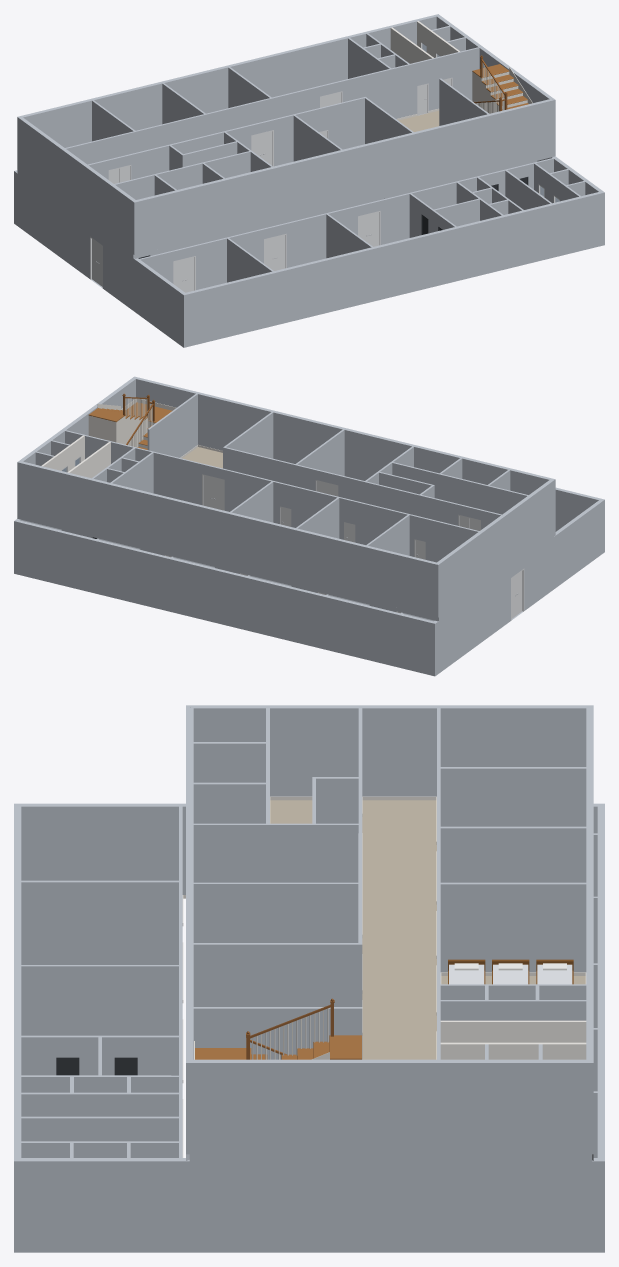
Rendered from lantai_2.glb.
The picture shows the model from 3 angles, top to bottom: view 1: azimuth 30°, elevation 25°; view 2: azimuth 150°, elevation 25°; view 3: azimuth 270°, elevation 25°; orthographic projection. The views are drawn at different scales.
Parts seen in each view (by area): view 1: Wall xq2fngxmuy22, Wall mi8497wfhxy8, Wall gwpm1q0ehxy8, Wall knbzdnw4hxy8, Wall ufxzxmlxhxy8, Wall x9eyfvsquy22, Wall 7t4voxlauy22, Wall xe7dyhqyuy22, Wall huqn24dqhxy8, Wall hefkgtgeuy22, Wall ruvndz41uy22, Wall h5lkwbacuy22 (+57 smaller); view 2: Wall l2ejw205uy22, Wall j9g91u2jhxy8, Wall 7r3o1ju6hxy8, Wall wdorv58hhxy8, Wall izgs9frrhxy8, Wall 0knpzuy1uy22, Wall utk30w2quy22, Wall h5lkwbacuy22, Wall rtvaq9dxuy22, Wall l8w7hmyihxy8, Wall rf0hpbf0uy22, Wall ruvndz41uy22 (+46 smaller); view 3: Slab slab:7e238bec-75fa-4a3a-8225-9a180a80a6fc:rliuj5h, Wall 6ec244t1uy22, Wall khi8fr2jhxy8, Wall 25huyelrhxy8 (×2), Wall gtrzfgqkuy22, Wall czpv1u3phxy8, Wall zfm17tfuhxy8, Wall tehvbcshhxy8, Wall ay6rlyl1uy22, Wall gl34gyf2ka74, Wall khgbamsiuy22, Wall ar5po6zouy22 (+27 smaller).
Part boxes in pixels (<box>): Wall xq2fngxmuy22: <box>134,180,220,254</box>; Wall mi8497wfhxy8: <box>521,192,604,264</box>; Wall gwpm1q0ehxy8: <box>293,247,373,320</box>; Wall knbzdnw4hxy8: <box>372,229,448,301</box>; Wall ufxzxmlxhxy8: <box>219,266,295,338</box>; Wall x9eyfvsquy22: <box>488,99,555,168</box>; Wall 7t4voxlauy22: <box>219,164,284,233</box>; Wall xe7dyhqyuy22: <box>283,149,344,218</box>; Wall huqn24dqhxy8: <box>446,215,503,283</box>; Wall hefkgtgeuy22: <box>434,114,489,181</box>; Wall ruvndz41uy22: <box>83,164,135,254</box>; Wall h5lkwbacuy22: <box>270,69,390,119</box>; Wall l2ejw205uy22: <box>352,542,438,617</box>; Wall j9g91u2jhxy8: <box>14,520,97,593</box>; Wall 7r3o1ju6hxy8: <box>245,576,325,649</box>; Wall wdorv58hhxy8: <box>170,558,246,629</box>; Wall izgs9frrhxy8: <box>323,595,399,667</box>; Wall 0knpzuy1uy22: <box>17,461,84,530</box>; Wall utk30w2quy22: <box>287,527,353,596</box>; Wall h5lkwbacuy22: <box>153,452,273,511</box>; Wall rtvaq9dxuy22: <box>227,512,289,580</box>; Wall l8w7hmyihxy8: <box>115,544,172,611</box>; Wall rf0hpbf0uy22: <box>83,476,138,543</box>; Wall ruvndz41uy22: <box>501,479,555,568</box>; Slab slab:7e238bec-75fa-4a3a-8225-9a180a80a6fc:rliuj5h: <box>362,800,436,1059</box>; Wall 6ec244t1uy22: <box>186,1059,362,1154</box>; Wall khi8fr2jhxy8: <box>14,1158,182,1252</box>; Wall 25huyelrhxy8 (×2): <box>448,1154,604,1252</box>; Wall gtrzfgqkuy22: <box>437,1059,593,1154</box>; Wall czpv1u3phxy8: <box>240,1154,390,1252</box>; Wall zfm17tfuhxy8: <box>21,880,178,964</box>; Wall tehvbcshhxy8: <box>15,803,182,880</box>; Wall ay6rlyl1uy22: <box>440,882,586,972</box>; Wall gl34gyf2ka74: <box>21,965,178,1035</box>; Wall khgbamsiuy22: <box>193,943,362,1006</box>; Wall ar5po6zouy22: <box>193,882,358,942</box>.
Size of what is drawn, in the model's own units: 22.62 by 6.69 by 15.8.
